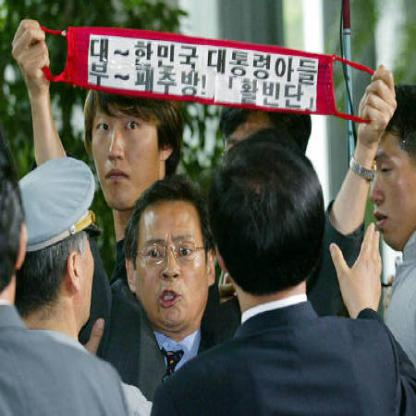face: (135, 183, 211, 331), (89, 70, 161, 212)
